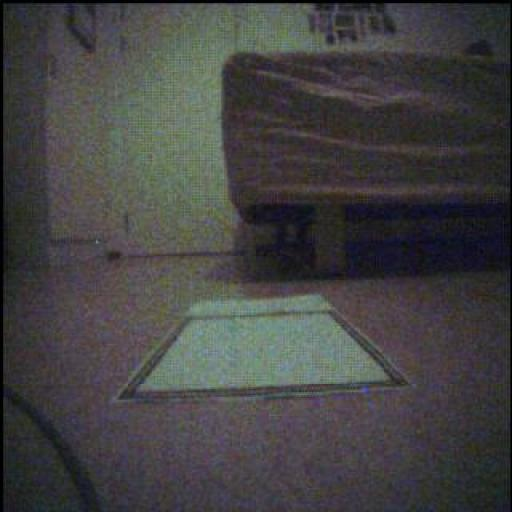pad: (118, 297, 407, 403)
